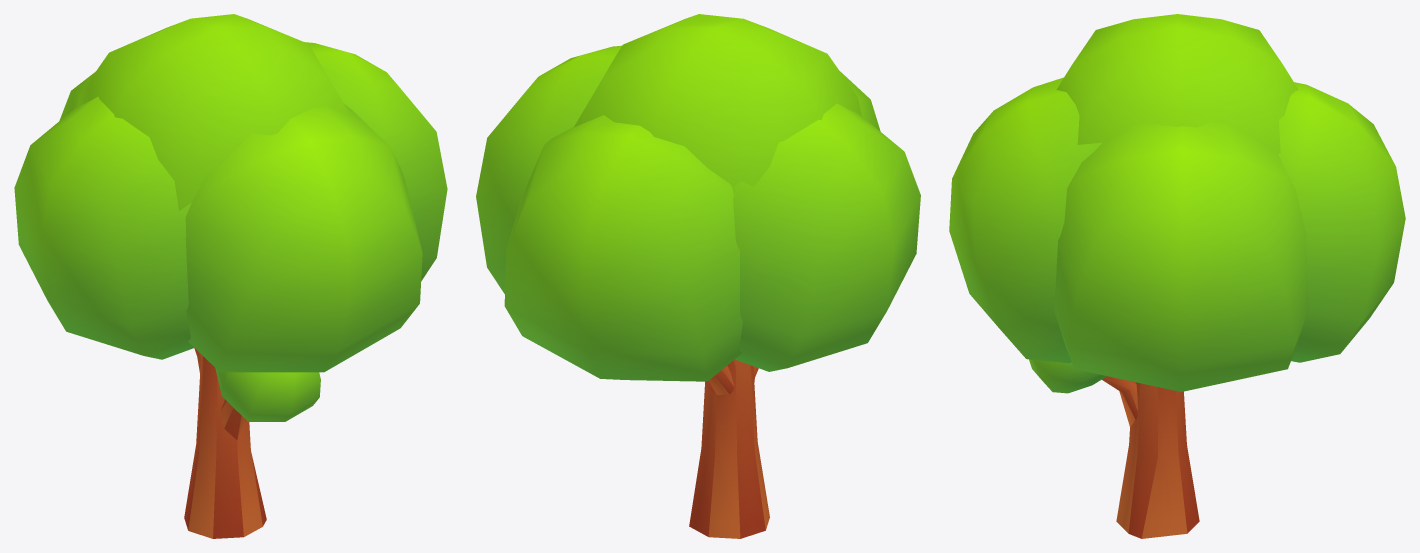
The model's file is low_poly_tree.glb.
3 renders of one model, left to right at view 1: azimuth 30°, elevation 25°; view 2: azimuth 150°, elevation 25°; view 3: azimuth 270°, elevation 25°, orthographic. The views are drawn at different scales.
Visible parts, largest first — view 1: Plane.003, Plane.001, Plane.006, Plane.002, Circle, Plane.005, Circle.002; view 2: Plane, Plane.001, Plane.006, Plane.002, Circle, Circle.001, Plane.003; view 3: Plane.002, Plane.003, Plane, Plane.006, Circle, Plane.005, Circle.002.
Part boxes in pixels (bbox=[...]): Plane.003: bbox=[185, 104, 422, 372]; Plane.001: bbox=[14, 96, 194, 359]; Plane.006: bbox=[77, 14, 351, 210]; Plane.002: bbox=[304, 42, 447, 280]; Circle: bbox=[184, 354, 266, 538]; Plane.005: bbox=[215, 368, 320, 421]; Circle.002: bbox=[221, 399, 245, 439]; Plane: bbox=[504, 115, 742, 381]; Plane.001: bbox=[732, 103, 920, 371]; Plane.006: bbox=[573, 14, 861, 187]; Plane.002: bbox=[476, 45, 621, 293]; Circle: bbox=[689, 359, 769, 538]; Circle.001: bbox=[705, 366, 734, 394]; Plane.003: bbox=[840, 71, 880, 131]; Plane.002: bbox=[1054, 122, 1308, 391]; Plane.003: bbox=[949, 77, 1102, 362]; Plane: bbox=[1278, 82, 1405, 362]; Plane.006: bbox=[1056, 14, 1298, 153]; Circle: bbox=[1116, 382, 1199, 538]; Plane.005: bbox=[1029, 359, 1106, 393]; Circle.002: bbox=[1102, 376, 1137, 427].
Bounding box in the file's own units: 594 × 726 × 605.
Materials: 1 (1 with a texture image).
